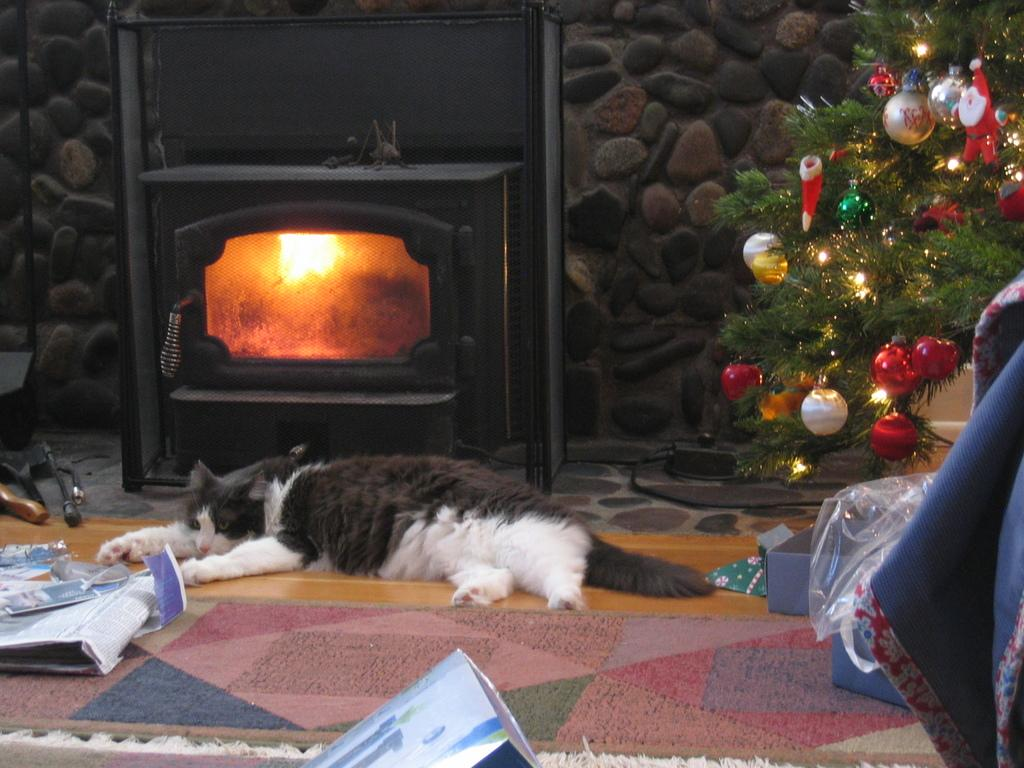Fire: (217, 229, 424, 357)
